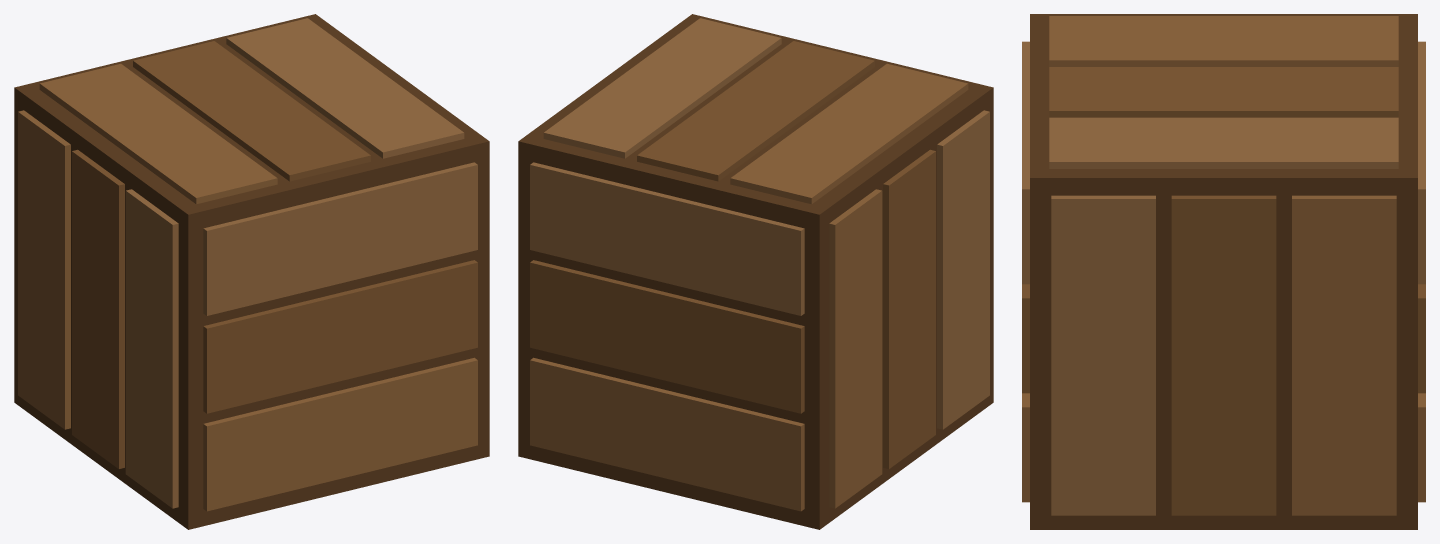
File: block_wood.glb
The picture shows the model from 3 angles, left to right: view 1: azimuth 30°, elevation 25°; view 2: azimuth 150°, elevation 25°; view 3: azimuth 270°, elevation 25°; orthographic projection. The views are drawn at different scales.
Parts seen in each view (by area): view 1: block_wood; view 2: block_wood; view 3: block_wood.
Boxes of the visible parts, bbox=[...] form: block_wood: bbox=[14, 14, 489, 529]; block_wood: bbox=[518, 14, 993, 529]; block_wood: bbox=[1022, 14, 1425, 529].
Bounding box in the file's own units: 1.04 × 1.04 × 1.04.
